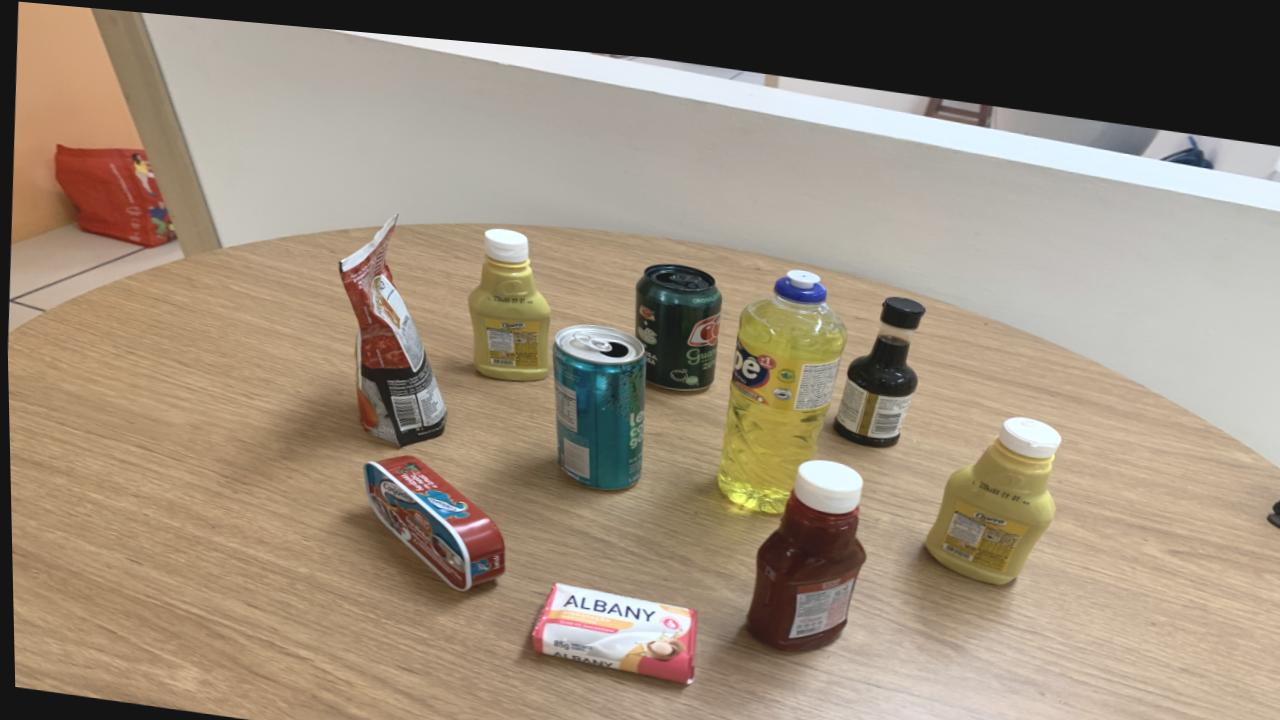Detergent-Cleanup_Items: (717, 254, 845, 499)
English_Sauce-Pantry_Items: (832, 279, 924, 431)
Guarana_Can-Drinks: (634, 251, 721, 378)
Ketchup-Pantry_Items: (744, 445, 863, 637)
Mustard-Pantry_Items: (923, 397, 1058, 566), (467, 219, 550, 372)
Soap-Cleanup_Items: (528, 573, 694, 672)
Tea-Drinks: (550, 313, 644, 479)
Tomato_Sauce-Pantry_Items: (337, 211, 443, 439)
Tuna_Can-Pantry_Items: (361, 448, 503, 583)
